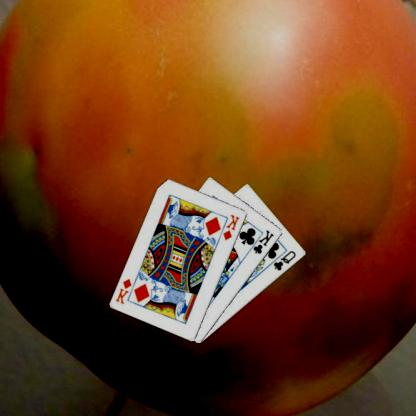KC: (248, 227, 278, 255)
KD: (222, 212, 243, 242), (115, 275, 135, 305)
QC: (272, 248, 300, 272)
